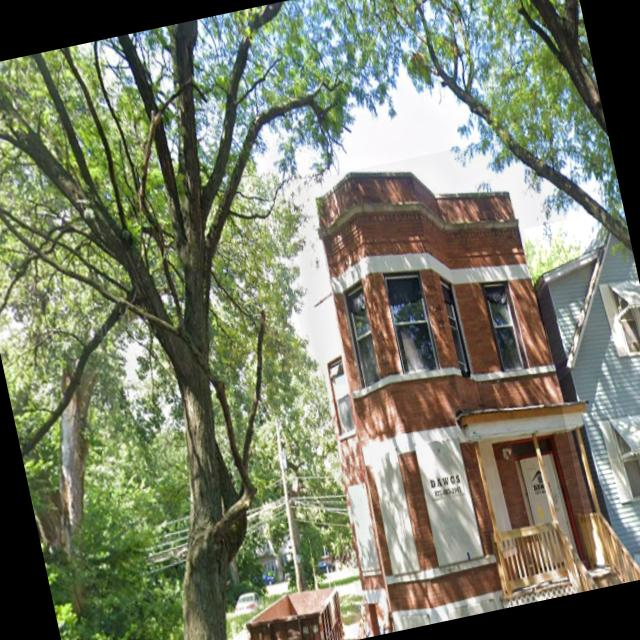House: (271, 128, 640, 637), (523, 207, 640, 587)
